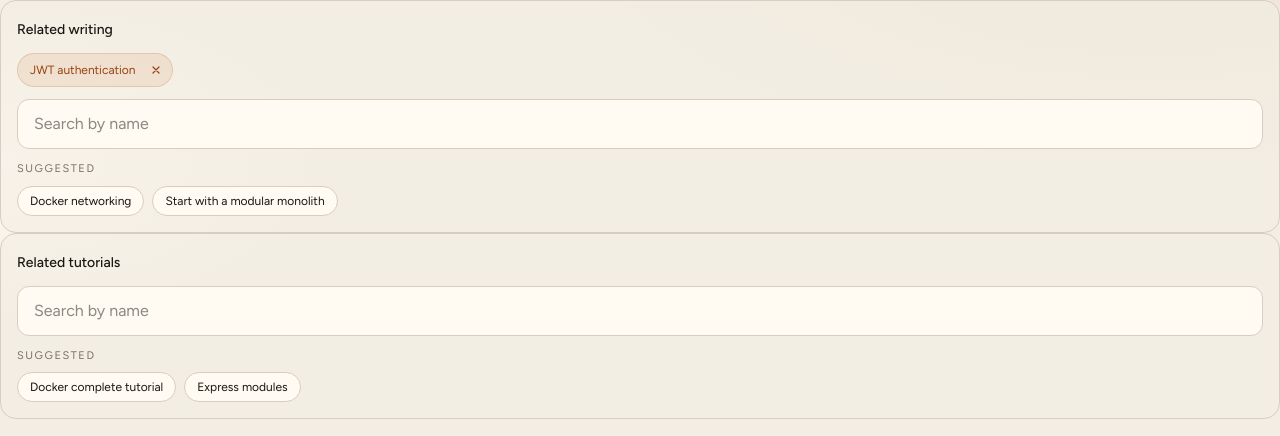
Test: RelatedNamePicker › adds a second related name from remaining suggestions
The image size is (1280, 436).
expect the text "JWT authentication" is shown: met, box 30,62 -> 136,78
Click the button "Docker networking" at (81, 200), box 17,186 -> 144,216
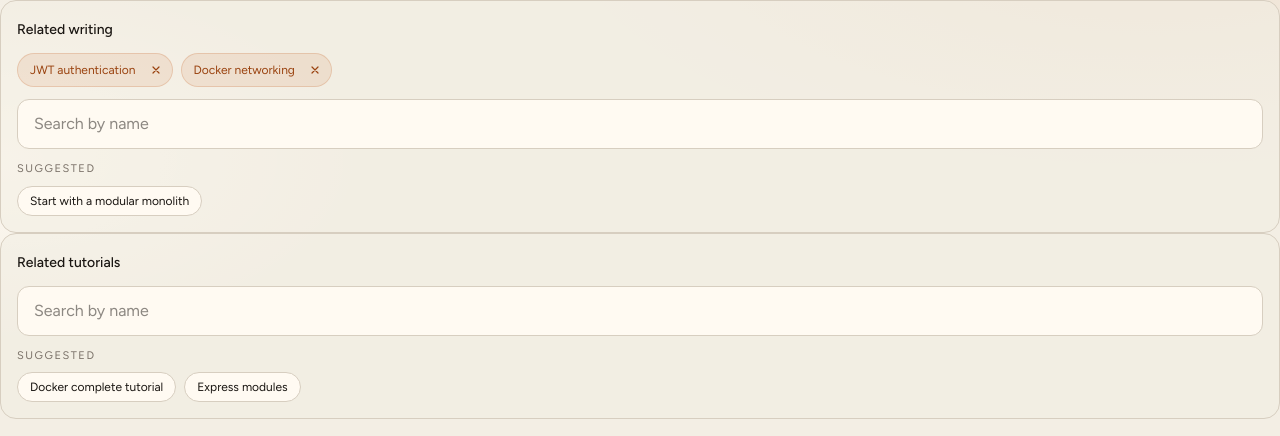
expect the text "Docker networking" is shown: met, box 194,62 -> 295,78
Click the button "Start with a modular monolith" at (110, 200), box 17,186 -> 202,216
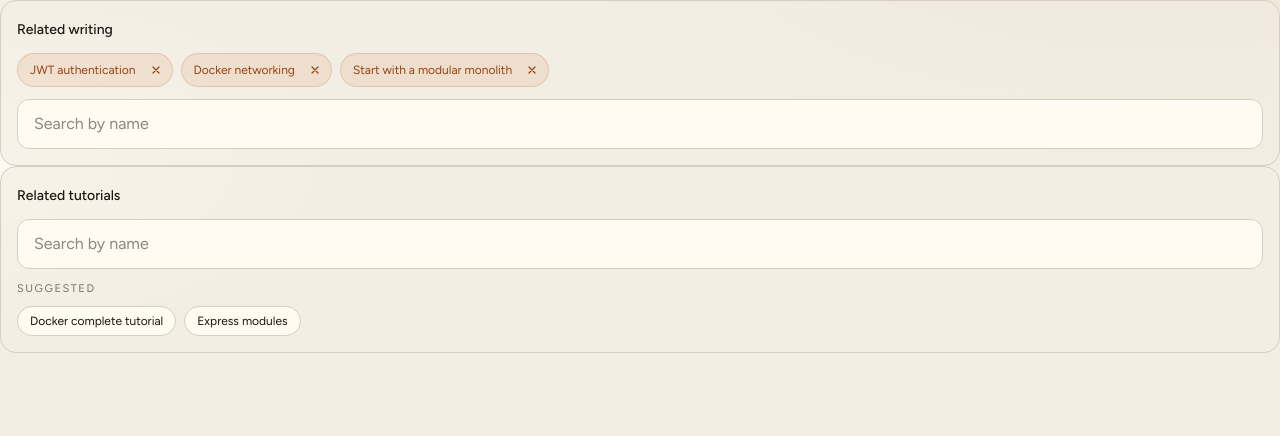
expect the button named "Remove Start with a modular monolith" is shown: met, box 520,58 -> 544,82
